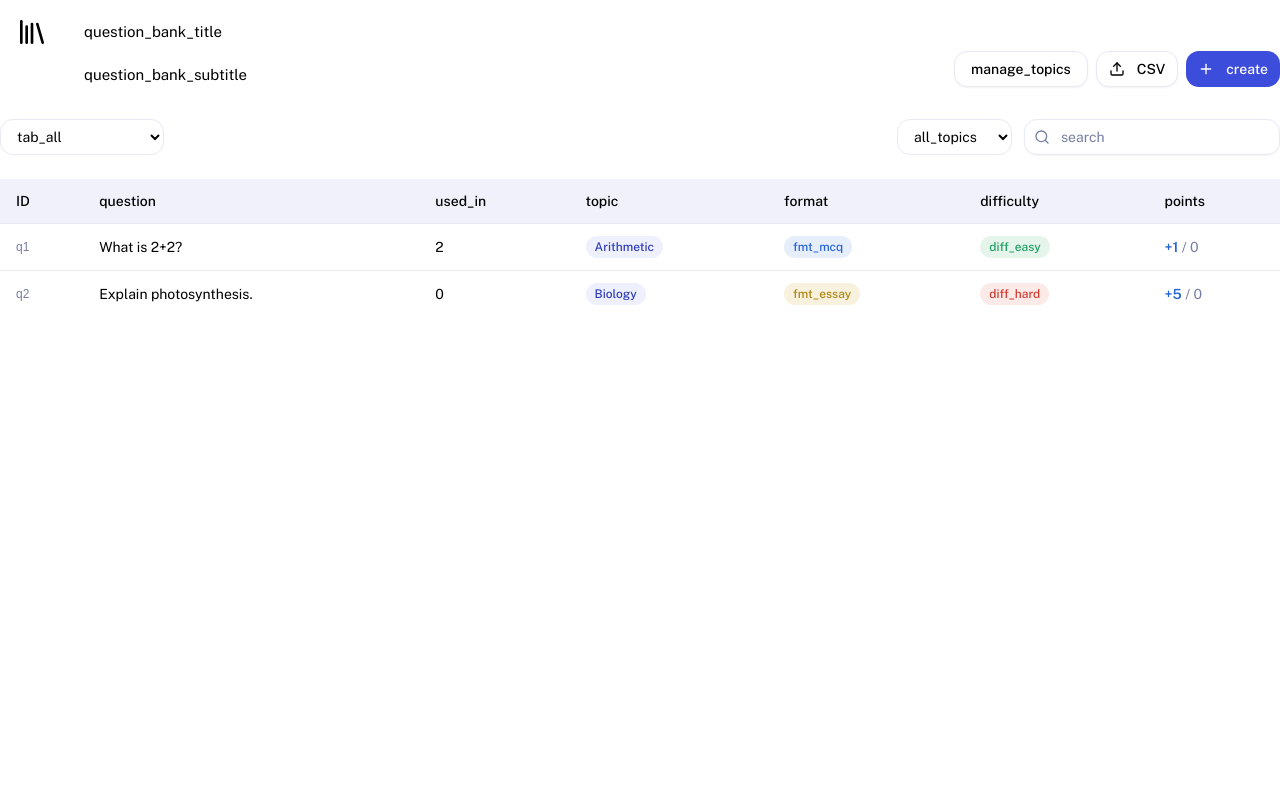
QuestionBankPage › opens the topics modal on Manage Topics click
Check: the text "What is 2+2?" is shown, box [83,223,419,270]
Step 1. Click the button "manage_topics" → (1021, 68), box [954,50,1088,86]
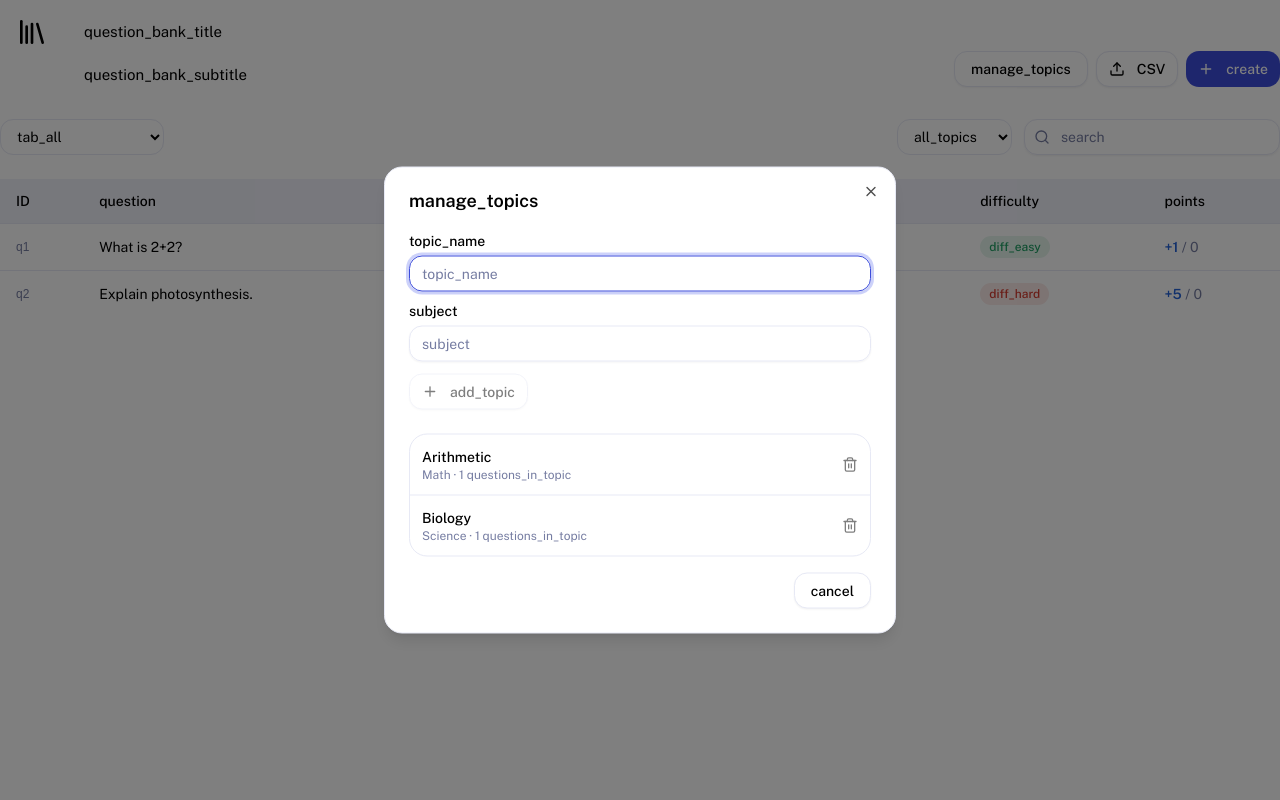
Check: the text "Arithmetic" is shown, box [422,448,491,464]
Check: the field labelled "topic_name" is shown, box [409,256,871,292]
